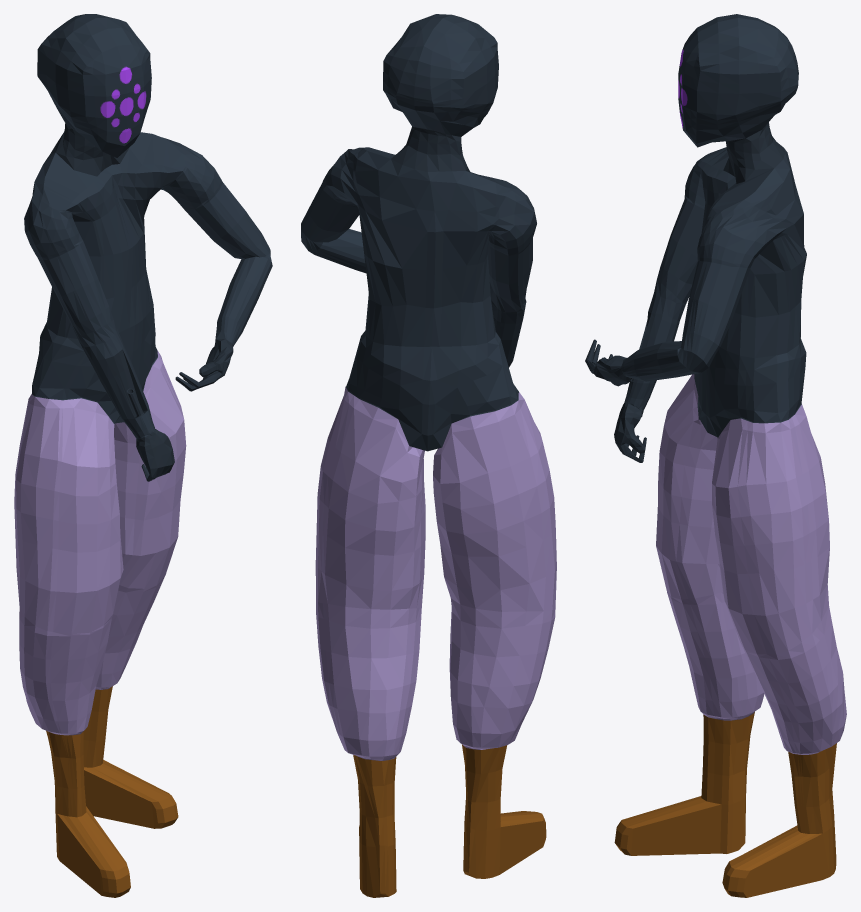
File: Oracle_Reload_000009.obj
The picture shows the model from 3 angles, left to right: view 1: azimuth 30°, elevation 25°; view 2: azimuth 150°, elevation 25°; view 3: azimuth 270°, elevation 25°; orthographic projection. The views are drawn at different scales.
Parts seen in each view (by area): view 1: Cube; view 2: Cube; view 3: Cube.
Part boxes in pixels (x1,y1,x2,y2): Cube: [14, 14, 272, 897]; Cube: [301, 14, 556, 897]; Cube: [585, 14, 846, 897].
Bounding box in the file's own units: 1.21 × 3.94 × 1.1.
